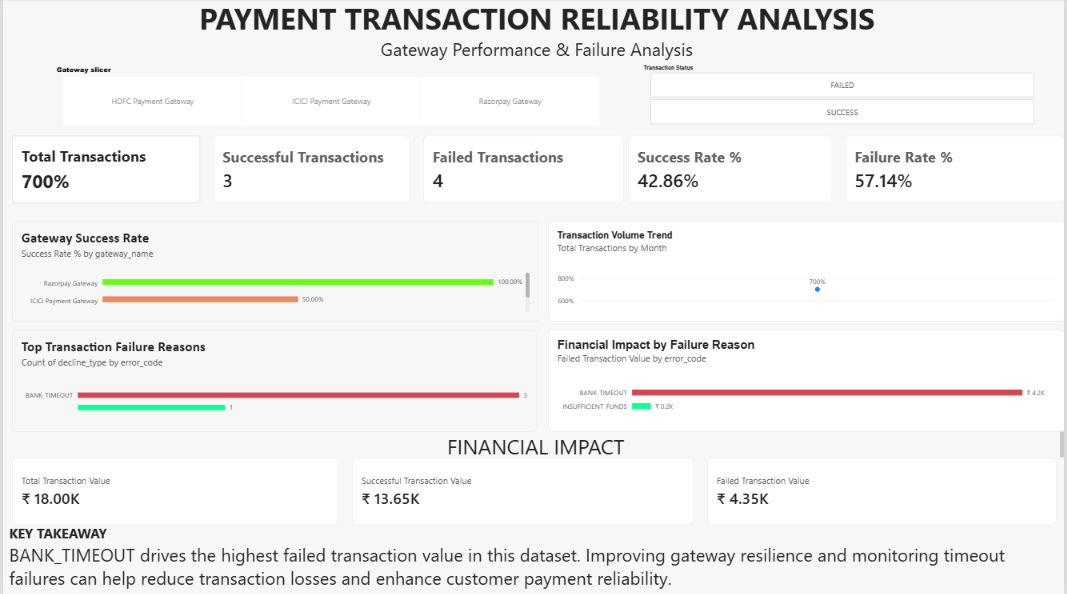

The dashboard page shown, as its layout file describes it:
{"tool":"powerbi","page":{"name":"Page 1","canvas":[1920,1080],"ordinal":0},"visuals":[{"type":"clusteredBarChart","title":"Gateway Success Rate","fields":{"Category":["public gateways.gateway_name"],"Y":["public transactions.Success Rate %"]},"box":[16.8,403.4,953.9,182.8],"z":0},{"type":"barChart","title":"Top Transaction Failure Reasons","fields":{"Category":["public transactions.error_code"],"Y":["CountNonNull(public transactions.decline_type)"]},"box":[16.8,600.9,949.7,184.9],"z":1000},{"type":"cardVisual","fields":{"Data":["public transactions.Total Transactions"]},"box":[16.8,250,340.4,121.9],"z":2000},{"type":"cardVisual","fields":{"Data":["public transactions.Failure Rate %"]},"box":[1523.3,250,397.1,121.9],"z":3000},{"type":"cardVisual","fields":{"Data":["public transactions.Success Rate %"]},"box":[1130.4,250,369.8,121.9],"z":4000},{"type":"textbox","box":[10.5,0,1909.9,119.8],"z":5000},{"type":"cardVisual","fields":{"Data":["public transactions.Successful Transactions"]},"box":[380.3,250,357.2,121.9],"z":6000},{"type":"cardVisual","fields":{"Data":["public transactions.Failed Transactions"]},"box":[760.6,250,363.5,121.9],"z":7000},{"type":"lineChart","title":"Transaction Volume Trend","fields":{"Category":["public transactions.txn_timestamp.Variation.Date Hierarchy.Month","public transactions.txn_timestamp.Variation.Date Hierarchy.Day"],"Y":["public transactions.Total Transactions"]},"box":[985.4,403.4,935,182.8],"z":8000},{"type":"cardVisual","fields":{"Data":["public transactions.Failed Transaction Value"]},"box":[1273.3,832,632.4,121.9],"z":9000},{"type":"cardVisual","fields":{"Data":["public transactions.Successful Transaction Value"]},"box":[632.4,832,617.7,121.9],"z":10000},{"type":"cardVisual","fields":{"Data":["public transactions.Total Transaction Value"]},"box":[16.8,832,592.5,121.9],"z":11000},{"type":"barChart","title":"Financial Impact by Failure Reason","fields":{"Category":["public transactions.error_code"],"Y":["public transactions.Failed Transaction Value"]},"box":[985.4,600.9,935,184.9],"z":12000},{"type":"textbox","box":[16.8,785.8,1903.6,63],"z":13000},{"type":"textbox","box":[10.5,953.9,1895.2,126.1],"z":13001},{"type":"slicer","fields":{"Values":["public gateways.gateway_name"]},"box":[88.2,121.9,1008.5,111.4],"z":13002},{"type":"slicer","fields":{"Values":["public transactions.txn_status"]},"box":[1151.4,119.8,733.3,111.4],"z":13003}]}

Visuals, with their boxes in screenshot pixels (x1, y1, x2, y2), scaled from the page's 1920x1080 canvas onto the 1067x594 screenshot:
"Gateway Success Rate" clusteredBarChart: 9/222/539/322
"Top Transaction Failure Reasons" barChart: 9/330/537/432
cardVisual - public transactions.Total Transactions: 9/138/199/205
cardVisual - public transactions.Failure Rate %: 847/138/1066/205
cardVisual - public transactions.Success Rate %: 628/138/834/205
textbox: 6/0/1066/66
cardVisual - public transactions.Successful Transactions: 211/138/410/205
cardVisual - public transactions.Failed Transactions: 423/138/625/205
"Transaction Volume Trend" lineChart: 548/222/1066/322
cardVisual - public transactions.Failed Transaction Value: 708/458/1059/525
cardVisual - public transactions.Successful Transaction Value: 351/458/695/525
cardVisual - public transactions.Total Transaction Value: 9/458/339/525
"Financial Impact by Failure Reason" barChart: 548/330/1066/432
textbox: 9/432/1066/467
textbox: 6/525/1059/593
slicer - public gateways.gateway_name: 49/67/609/128
slicer - public transactions.txn_status: 640/66/1047/127
